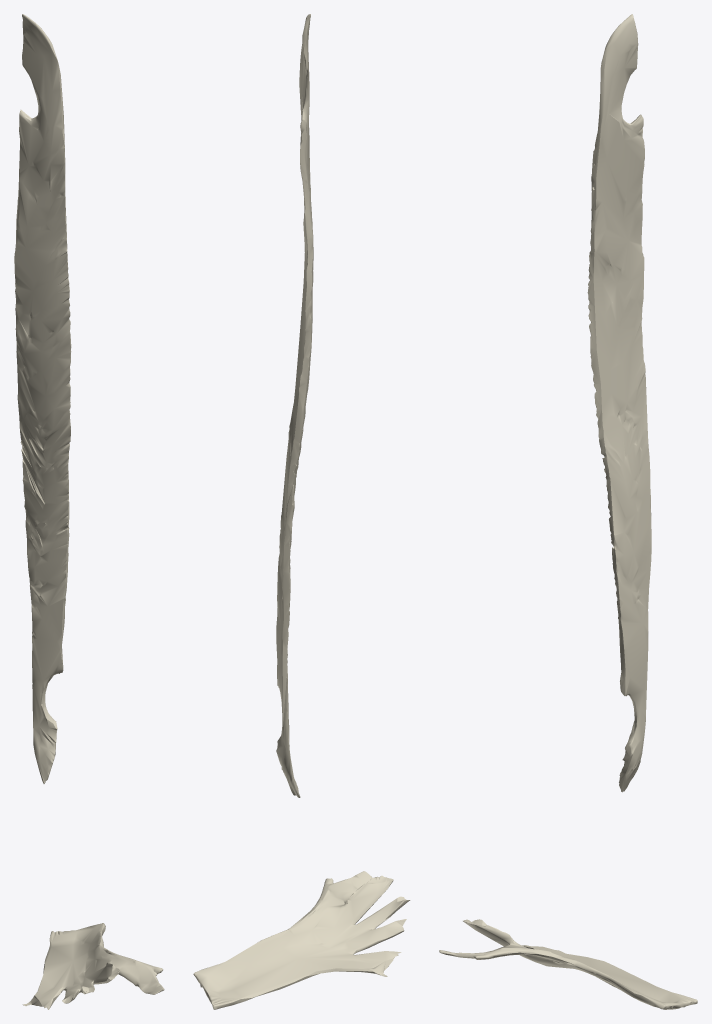
File: joints.lower_limb_right.glb
The picture shows the model from 3 angles, left to right: view 1: azimuth 30°, elevation 25°; view 2: azimuth 150°, elevation 25°; view 3: azimuth 270°, elevation 25°; orthographic projection. The views are drawn at different scales.
Parts seen in each view (by area): view 1: interosseous_membrane_of_right_leg, right_long_plantar_ligament; view 2: right_long_plantar_ligament, interosseous_membrane_of_right_leg; view 3: interosseous_membrane_of_right_leg, right_long_plantar_ligament.
Part boxes in pixels (x1,y1,x2,y2): interosseous_membrane_of_right_leg: (14, 14, 71, 783); right_long_plantar_ligament: (22, 923, 164, 1009); right_long_plantar_ligament: (193, 871, 410, 1009); interosseous_membrane_of_right_leg: (276, 14, 313, 797); interosseous_membrane_of_right_leg: (587, 14, 651, 792); right_long_plantar_ligament: (439, 919, 697, 1009).
Size of the model in its own units: 0.0584 by 0.3974 by 0.097.
